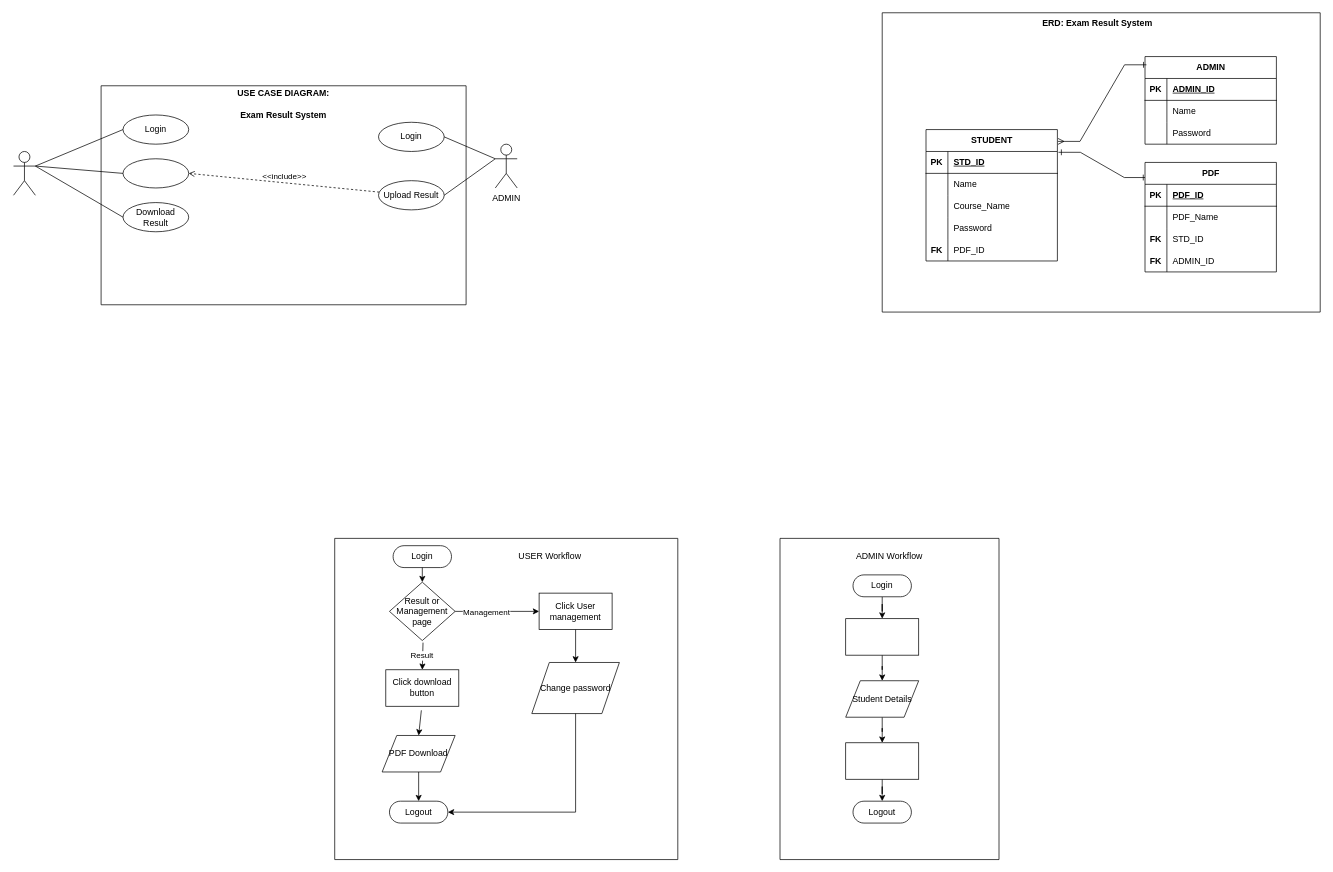
The diagram is 1333 pixels wide and 872 high, and some of its shapes have lost their labels. The centre of each missing label's shape, as x and y in pixels:
PDF Upload: point (882, 760)
Search Student: point (882, 636)
USER: point (24, 173)
View Result: point (155, 173)
